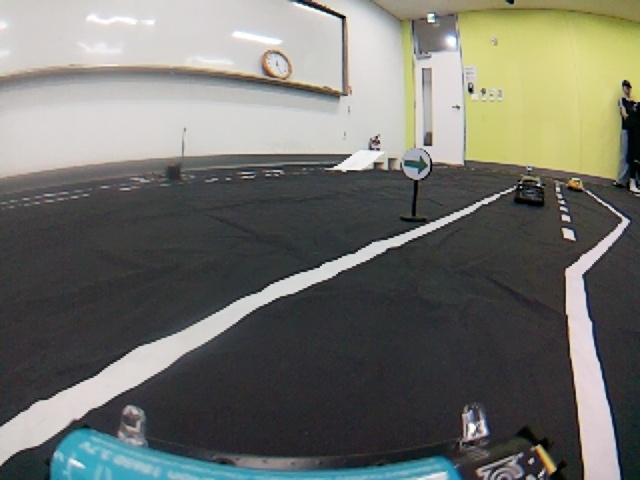right: (9, 224, 632, 474)
sign_right: (400, 147, 432, 183)
